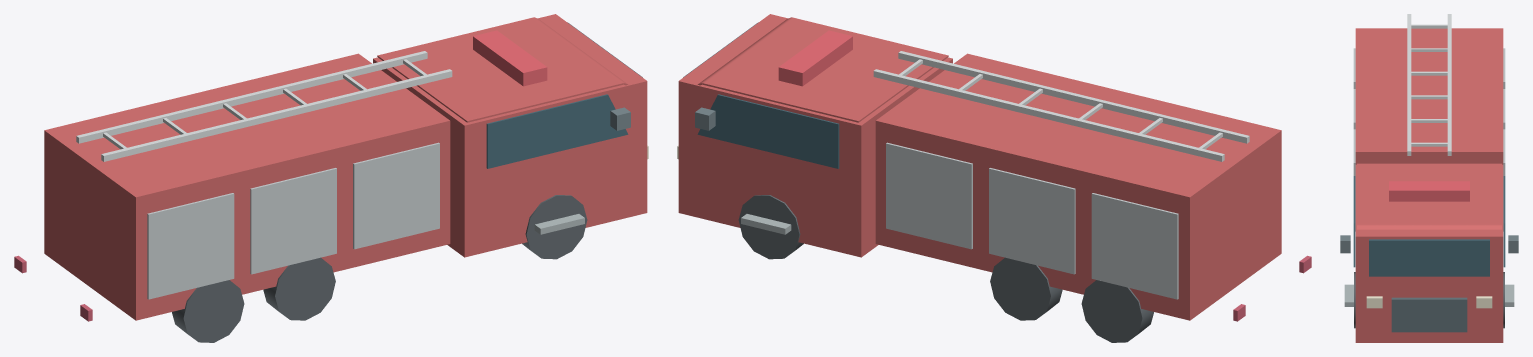
The picture shows the model from 3 angles, left to right: view 1: azimuth 30°, elevation 25°; view 2: azimuth 150°, elevation 25°; view 3: azimuth 270°, elevation 25°; orthographic projection. The views are drawn at different scales.
Parts seen in each view (by area): view 1: equipment, cab, bent_cab_roof, equipment_shutter_1_0, equipment_shutter_1_1, equipment_shutter_1_2, cab_window_right, ladder_rail_1, wheel_middle_right, wheel_rear_right, ladder_rail_-1, wheel_front_right (+2 smaller); view 2: equipment, cab, bent_cab_roof, equipment_shutter_-1_0, equipment_shutter_-1_1, equipment_shutter_-1_2, cab_window_left, ladder_rail_-1, wheel_middle_left, wheel_rear_left, ladder_rail_1, wheel_front_left (+2 smaller); view 3: equipment, cab, bent_cab_roof, cab_windscreen, radiator_grille, red_beacon, ladder_rail_-1, ladder_rail_1, cab_window_left, cab_window_right, cab_step_left, cab_step_right (+12 smaller).
Part boxes in pixels (x1,y1,x2,y2): equipment: (44,53,450,320); cab: (373,14,647,257); bent_cab_roof: (377,17,628,122); equipment_shutter_1_0: (147,193,234,299); equipment_shutter_1_1: (250,168,336,274); equipment_shutter_1_2: (353,142,439,249); cab_window_right: (486,94,628,168); ladder_rail_1: (101,69,452,161); wheel_middle_right: (263,257,335,320); wheel_rear_right: (172,280,244,342); ladder_rail_-1: (76,51,427,143); wheel_front_right: (522,195,587,259); equipment: (875,53,1281,320); cab: (678,14,952,257); bent_cab_roof: (697,17,948,122); equipment_shutter_-1_0: (1091,193,1178,299); equipment_shutter_-1_1: (989,168,1075,274); equipment_shutter_-1_2: (886,142,972,249); cab_window_left: (697,94,839,168); ladder_rail_-1: (873,69,1224,161); wheel_middle_left: (990,257,1062,320); wheel_rear_left: (1081,280,1153,342); ladder_rail_1: (898,51,1249,143); wheel_front_left: (738,195,803,259); equipment: (1355,28,1503,164); cab: (1355,164,1503,342); bent_cab_roof: (1357,163,1501,229); cab_windscreen: (1369,239,1489,276); radiator_grille: (1391,297,1467,332); red_beacon: (1389,181,1469,201); ladder_rail_-1: (1447,14,1451,155); ladder_rail_1: (1407,14,1411,155); cab_window_left: (1503,176,1505,267); cab_window_right: (1353,176,1355,267); cab_step_left: (1505,284,1514,306); cab_step_right: (1344,284,1353,306).
Size of the model in its own units: 8.8 by 2.73 by 3.02.
